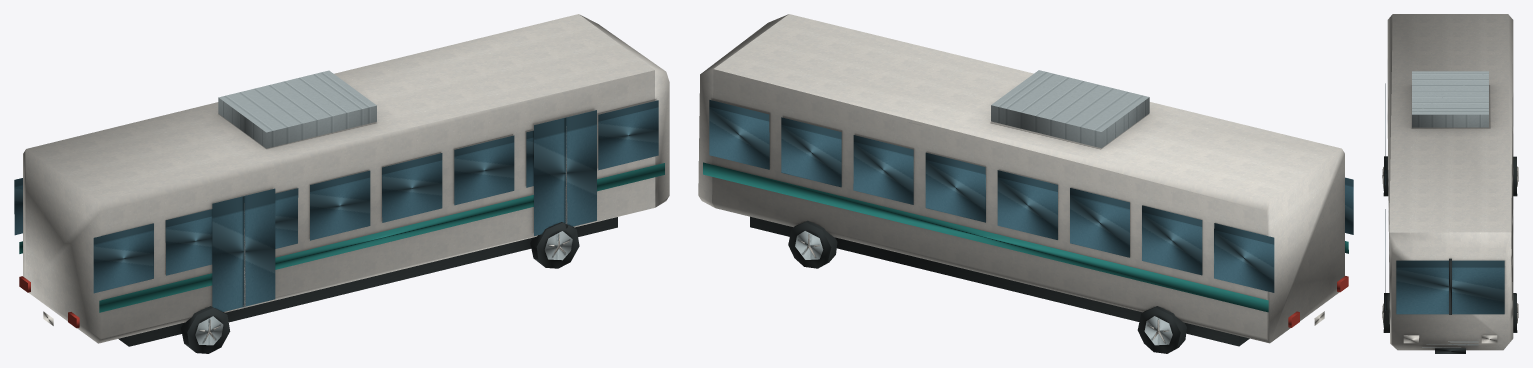
File: city_bus.lod1.obj
The picture shows the model from 3 angles, left to right: view 1: azimuth 30°, elevation 25°; view 2: azimuth 150°, elevation 25°; view 3: azimuth 270°, elevation 25°; orthographic projection. The views are drawn at different scales.
Parts seen in each view (by area): view 1: city_bus; view 2: city_bus; view 3: city_bus.
Part boxes in pixels (x1,y1,x2,y2): city_bus: [14, 14, 669, 353]; city_bus: [698, 14, 1353, 353]; city_bus: [1382, 14, 1518, 353].
Size of the model in its own units: 10.62 by 3.28 by 2.67.
1 material, 1 textured.
